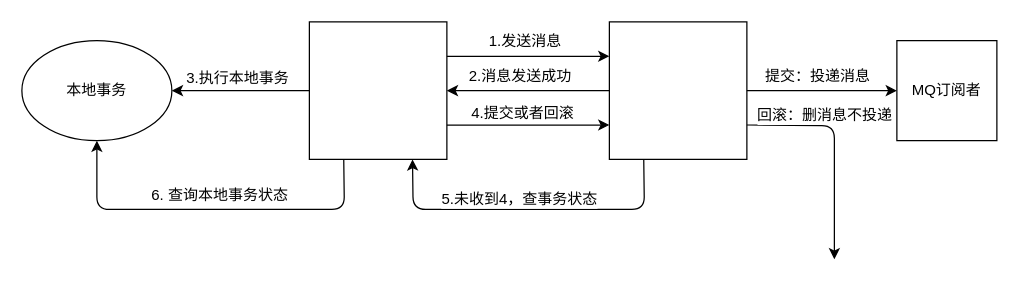
This 1019x291 diagram has some shape labels left out. Each missing label, with the centre of its shape:
MQ发送方: the point at 377,90
rocketmq: the point at 677,90
